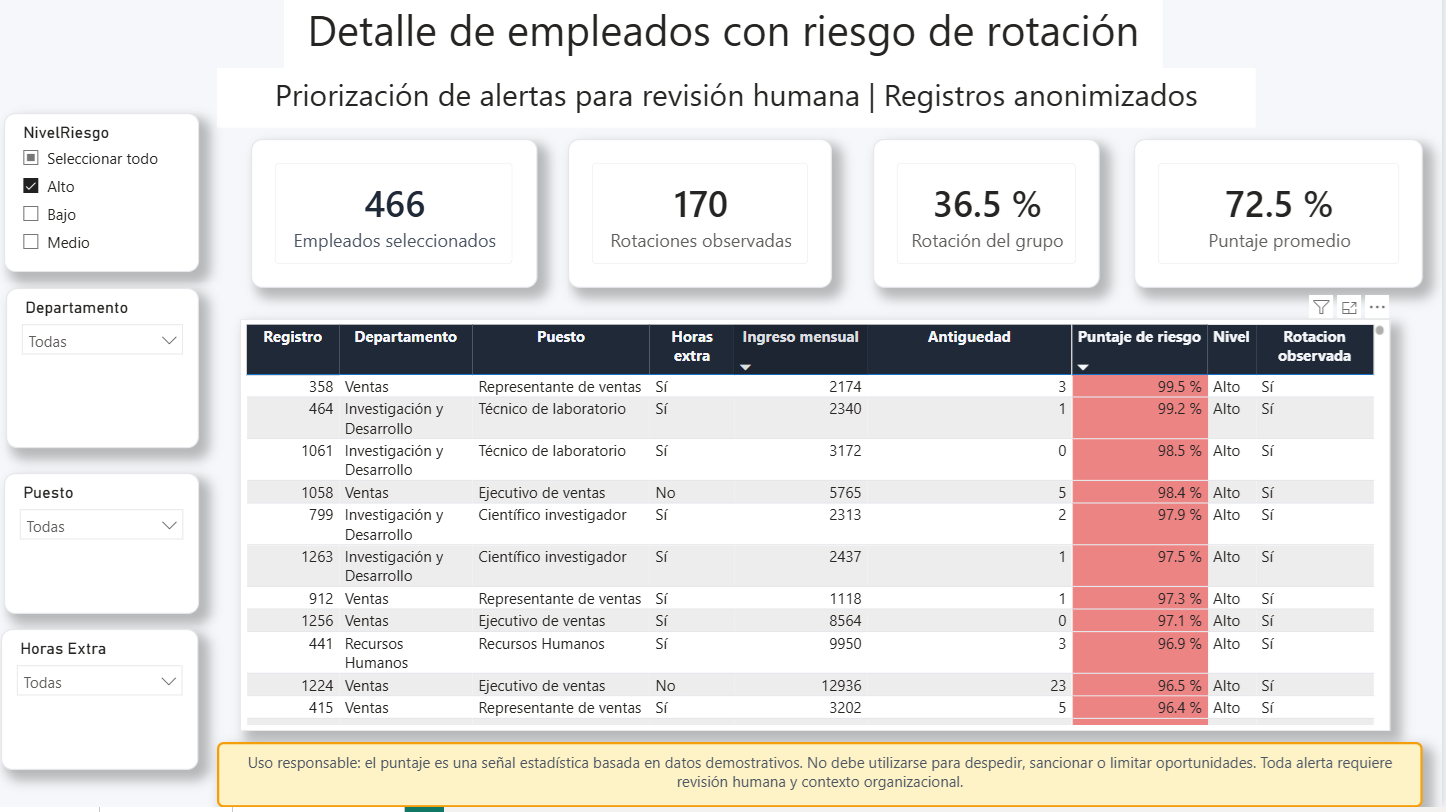

The page's visual inventory and layout, read from the dashboard file:
{"tool":"powerbi","page":{"name":"Detalle de riesgo","canvas":[1280,720],"ordinal":1},"visuals":[{"type":"textbox","box":[253.9,0,779.1,65.2],"z":0},{"type":"textbox","box":[194.5,65.2,921.1,53.5],"z":1},{"type":"slicer","fields":{"Values":["RotacionEmpleados.NivelRiesgo"]},"box":[5.2,104.3,173.4,141.4],"z":2},{"type":"cardVisual","fields":{"Data":["RotacionEmpleados.Total Empleados"]},"box":[224,128,253.9,132.3],"z":3},{"type":"cardVisual","fields":{"Data":["RotacionEmpleados.Rotaciones Reales"]},"box":[505.8,128,234.4,132.3],"z":4},{"type":"cardVisual","fields":{"Data":["RotacionEmpleados.Tasa Rotación Real"]},"box":[776.3,128,201.3,132.4],"z":5},{"type":"cardVisual","fields":{"Data":["RotacionEmpleados.Puntaje Riesgo Promedio"]},"box":[1007.5,128,256.3,132.5],"z":7},{"type":"tableEx","fields":{"Values":["Sum(RotacionEmpleados.RegistroAnonimo)","RotacionEmpleados.DepartamentoES","RotacionEmpleados.PuestoES","RotacionEmpleados.HorasExtra","Sum(RotacionEmpleados.MonthlyIncome)","Sum(RotacionEmpleados.YearsAtCompany)","RotacionEmpleados.PuntajeRiesgo","RotacionEmpleados.NivelRiesgo","RotacionEmpleados.RotacionReal"]},"box":[214.7,287,1019.9,365.4],"z":8},{"type":"slicer","fields":{"Values":["RotacionEmpleados.DepartamentoES"]},"box":[7.2,260.1,171.4,142.5],"z":9},{"type":"slicer","fields":{"Values":["RotacionEmpleados.JobRole"]},"box":[5.2,424.3,173.4,124.9],"z":10},{"type":"slicer","fields":{"Values":["RotacionEmpleados.HorasExtra"]},"box":[3.1,562.6,175.5,124.9],"z":11},{"type":"textbox","box":[194.1,662.7,1069.4,57.8],"z":12}]}

Visuals, with their boxes in screenshot pixels (x1, y1, x2, y2), scaled from the page's 1280x720 canvas onto the 1446x812 screenshot:
textbox: box(287, 0, 1167, 74)
textbox: box(220, 74, 1260, 134)
slicer - RotacionEmpleados.NivelRiesgo: box(6, 118, 202, 277)
cardVisual - RotacionEmpleados.Total Empleados: box(253, 144, 540, 294)
cardVisual - RotacionEmpleados.Rotaciones Reales: box(571, 144, 836, 294)
cardVisual - RotacionEmpleados.Tasa Rotación Real: box(877, 144, 1104, 294)
cardVisual - RotacionEmpleados.Puntaje Riesgo Promedio: box(1138, 144, 1428, 294)
tableEx - Sum(RotacionEmpleados.RegistroAnonimo) x RotacionEmpleados.DepartamentoES: box(243, 324, 1395, 736)
slicer - RotacionEmpleados.DepartamentoES: box(8, 293, 202, 454)
slicer - RotacionEmpleados.JobRole: box(6, 479, 202, 619)
slicer - RotacionEmpleados.HorasExtra: box(4, 634, 202, 775)
textbox: box(219, 747, 1427, 811)
